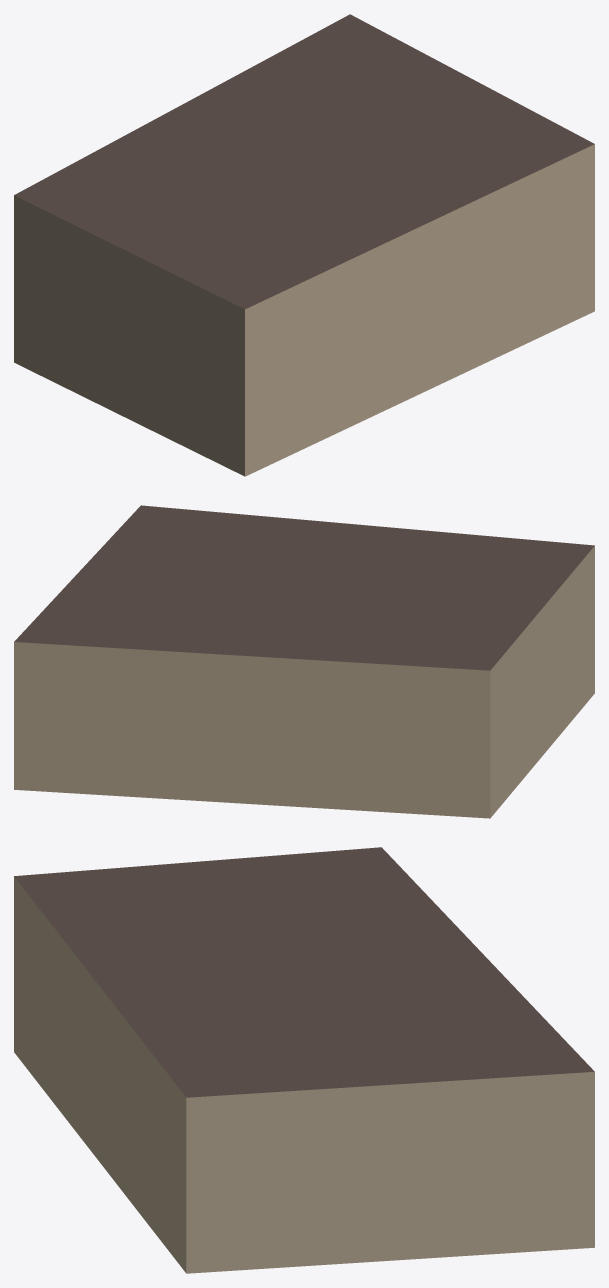
3 views of the same model, one above another, from view 1: azimuth 30°, elevation 25°; view 2: azimuth 150°, elevation 25°; view 3: azimuth 270°, elevation 25° (orthographic). The views are drawn at different scales.
Visible parts, largest first — view 1: HP-w1512495275; view 2: HP-w1512495275; view 3: HP-w1512495275.
Boxes of the visible parts, left/top/right/bottom form: HP-w1512495275: left=14, top=14, right=594, bottom=476; HP-w1512495275: left=14, top=505, right=594, bottom=818; HP-w1512495275: left=14, top=847, right=594, bottom=1273.
Bounding box in the file's own units: 27.48 × 9 × 26.93.
